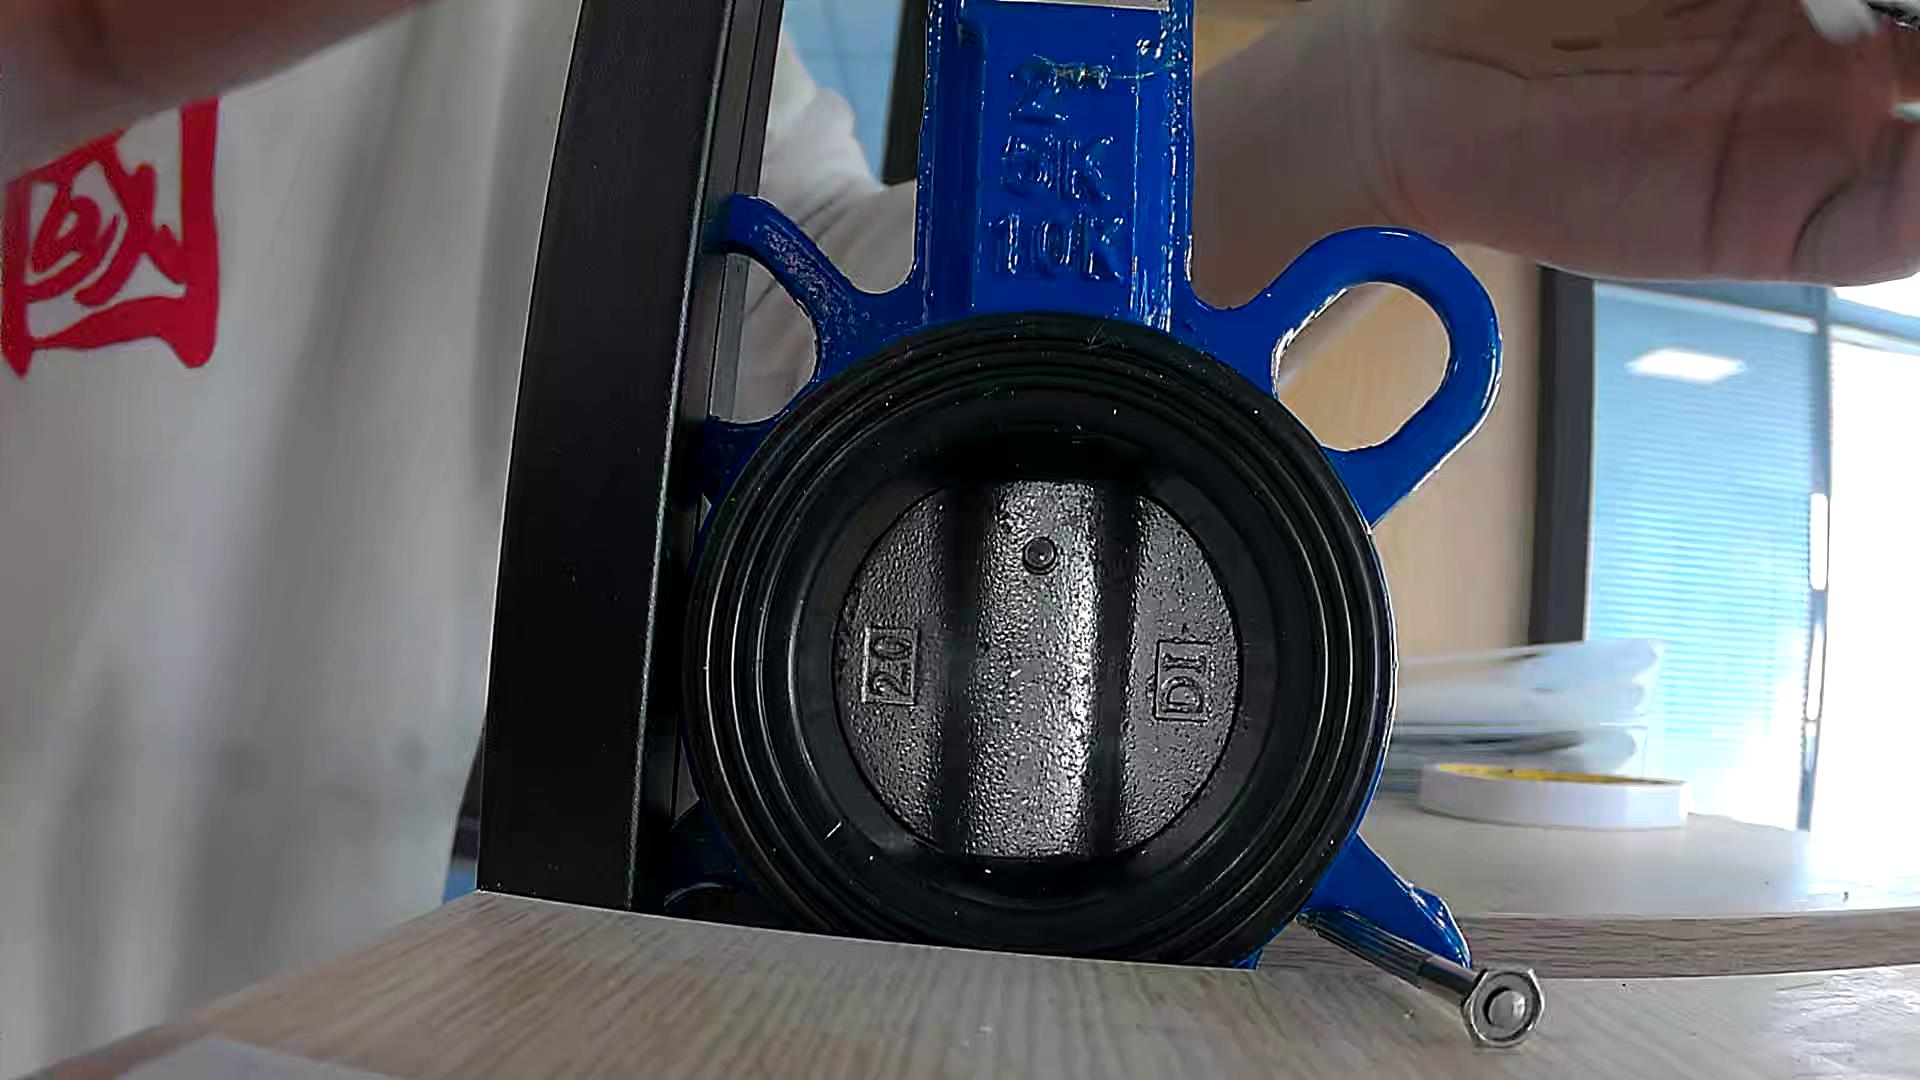valve: (836, 480, 1238, 859)
